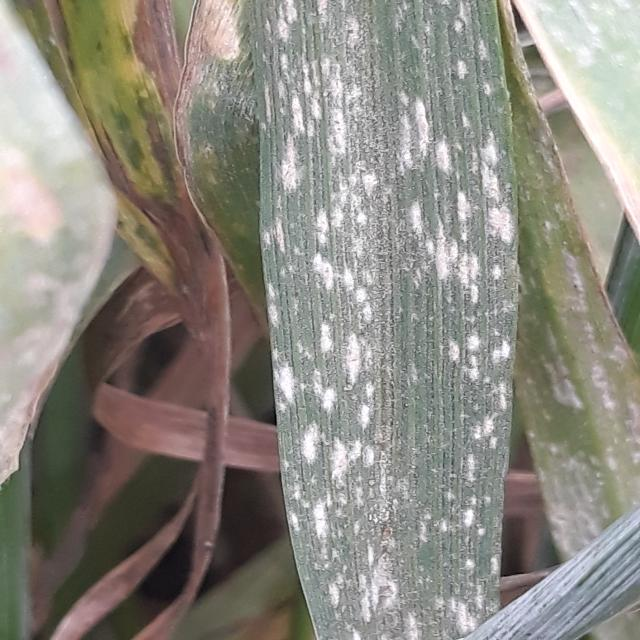powder_mildew: (184, 0, 640, 640), (0, 0, 178, 639)
